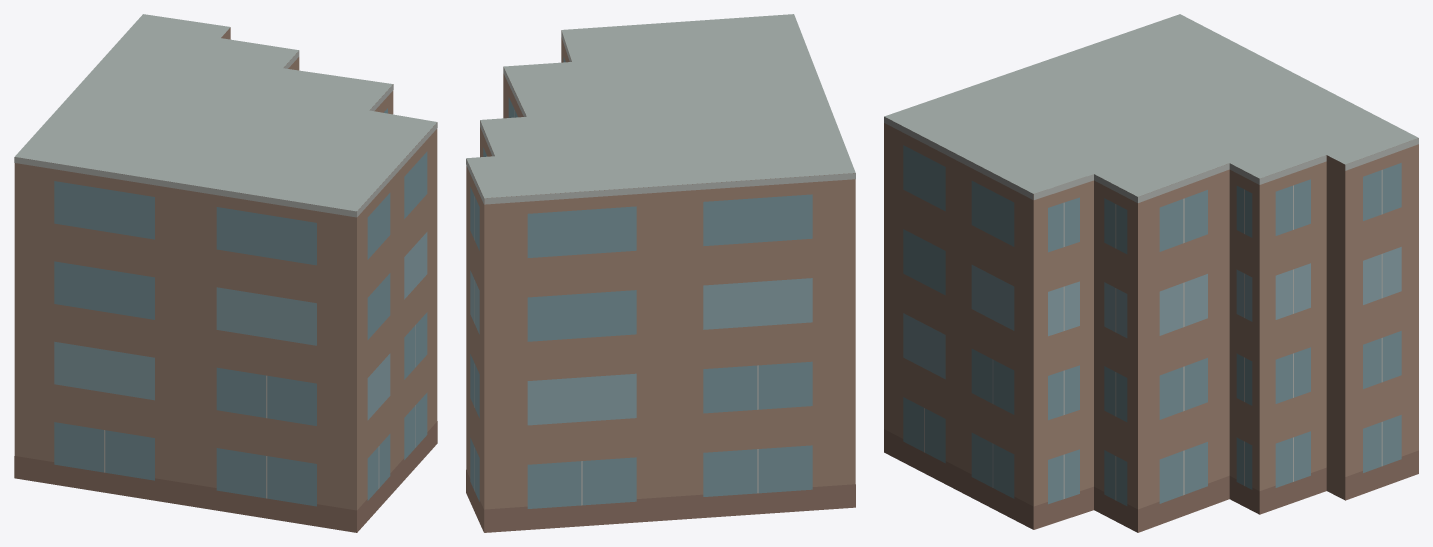
File: survey-upis-32501345.glb
3 renders of one model, left to right at view 1: azimuth 30°, elevation 25°; view 2: azimuth 150°, elevation 25°; view 3: azimuth 270°, elevation 25°, orthographic. The views are drawn at different scales.
Parts seen in each view (by area): view 1: survey-upis-32501345.tmp; view 2: survey-upis-32501345.tmp; view 3: survey-upis-32501345.tmp.
Boxes of the visible parts, x1,y1,x2,y2 form: survey-upis-32501345.tmp: [14, 14, 437, 532]; survey-upis-32501345.tmp: [466, 14, 855, 532]; survey-upis-32501345.tmp: [884, 14, 1418, 532].
Size of the model in its own units: 15.13 by 12.95 by 18.69.
